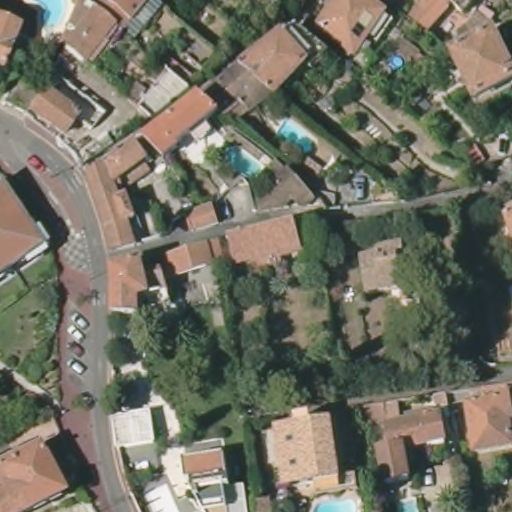pool: (219, 142, 264, 181), (275, 118, 321, 155), (32, 1, 71, 35), (312, 493, 362, 510), (388, 55, 406, 71)
